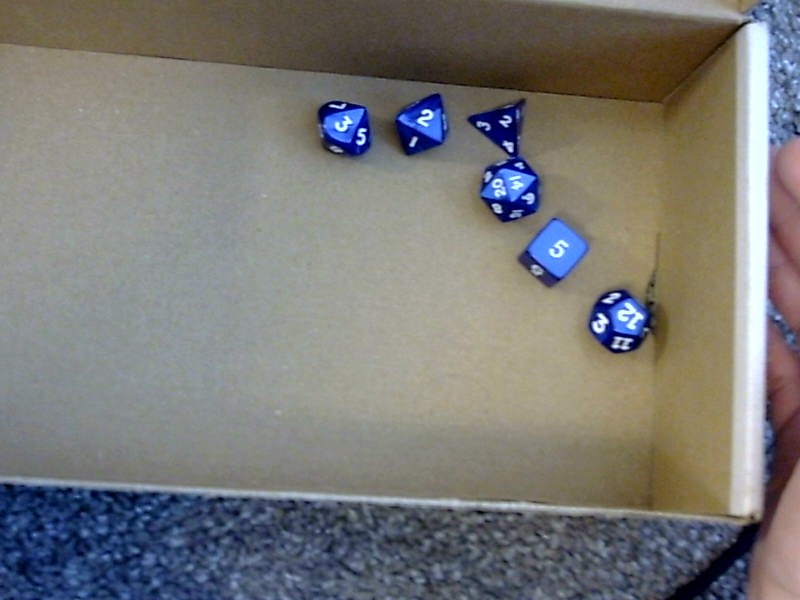d10 3: (313, 95, 379, 159)
d12 12: (586, 289, 655, 356)
d20 14: (479, 155, 541, 221)
d4 2: (464, 92, 526, 154)
d6 5: (519, 211, 592, 290)
d8 2: (392, 87, 448, 158)
